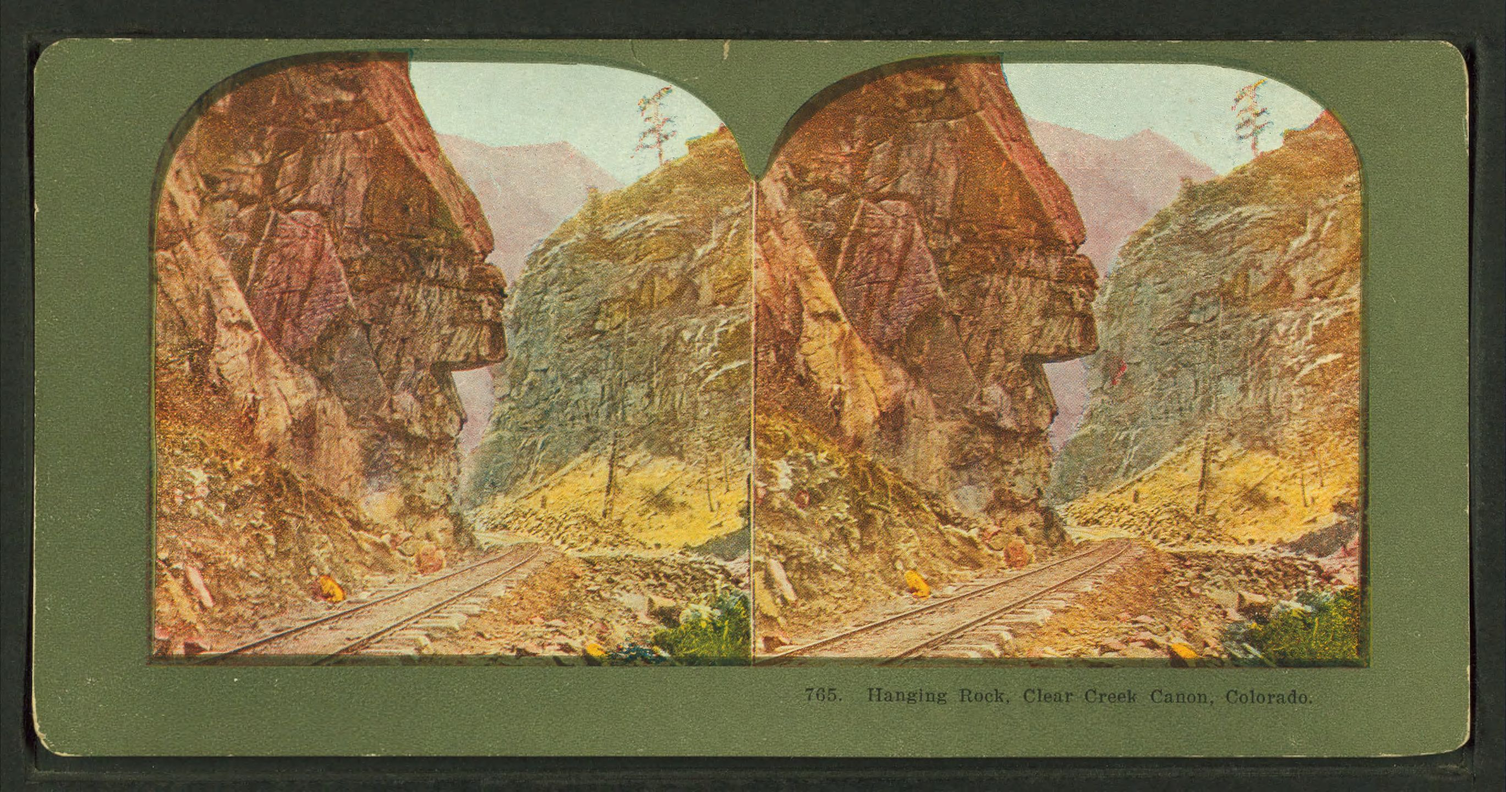half_image: (754, 64, 1362, 658), (154, 63, 753, 653)
